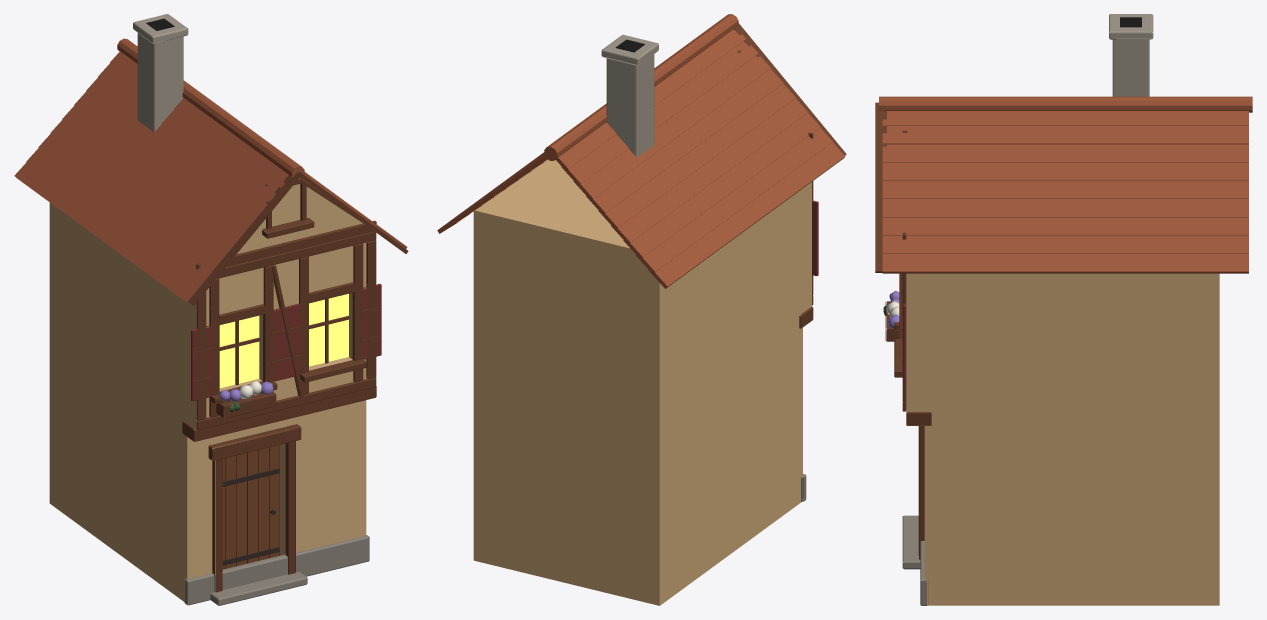
File: casa_3x4_ligero.glb
3 views of the same model, side by side, from view 1: azimuth 30°, elevation 25°; view 2: azimuth 150°, elevation 25°; view 3: azimuth 270°, elevation 25° (orthographic). The views are drawn at different scales.
Visible parts, largest first — view 1: casa_3x4_pb_dentro, casa_3x4_pa_dentro, casa_3x4_pb.002, casa_3x4_pb, casa_3x4_tejado_-1_0, casa_3x4_zocalo, casa_3x4_tejado_-1_1, casa_3x4_tejado_-1_2, casa_3x4_tejado_-1_3, casa_3x4_tejado_-1_4, casa_3x4_tejado_-1_5, casa_3x4_chimenea0 (+44 smaller); view 2: casa_3x4_pb_dentro, casa_3x4_pa_dentro, casa_3x4_tejado_-1_0, casa_3x4_tejado_-1_4, casa_3x4_tejado_-1_3, casa_3x4_tejado_-1_2, casa_3x4_tejado_-1_5, casa_3x4_tejado_-1_1, casa_3x4_tejado_-1_6, casa_3x4_chimenea0, casa_3x4_tejado_-1_7, casa_3x4_tejado_cumbrera (+5 smaller); view 3: casa_3x4_pb_dentro, casa_3x4_pa_dentro, casa_3x4_tejado_1_0, casa_3x4_tejado_1_5, casa_3x4_tejado_1_3, casa_3x4_tejado_1_4, casa_3x4_tejado_1_2, casa_3x4_tejado_1_1, casa_3x4_tejado_1_6, casa_3x4_tejado_1_7, casa_3x4_tejado_cumbrera, casa_3x4_tejado_1_8 (+7 smaller).
Boxes of the visible parts, <box> form: casa_3x4_pb_dentro: <box>49,322,176,596</box>; casa_3x4_pa_dentro: <box>49,202,187,422</box>; casa_3x4_pb.002: <box>280,400,366,555</box>; casa_3x4_pb: <box>177,416,220,601</box>; casa_3x4_tejado_-1_0: <box>14,162,202,303</box>; casa_3x4_zocalo: <box>184,535,369,605</box>; casa_3x4_tejado_-1_1: <box>26,148,214,287</box>; casa_3x4_tejado_-1_2: <box>38,134,226,272</box>; casa_3x4_tejado_-1_3: <box>50,120,236,258</box>; casa_3x4_tejado_-1_4: <box>62,105,246,244</box>; casa_3x4_tejado_-1_5: <box>74,91,257,230</box>; casa_3x4_chimenea0: <box>137,33,183,131</box>; casa_3x4_pb_dentro: <box>473,321,792,605</box>; casa_3x4_pa_dentro: <box>473,159,802,417</box>; casa_3x4_tejado_-1_0: <box>648,142,845,288</box>; casa_3x4_tejado_-1_4: <box>598,83,795,229</box>; casa_3x4_tejado_-1_3: <box>611,98,808,243</box>; casa_3x4_tejado_-1_2: <box>623,113,820,259</box>; casa_3x4_tejado_-1_5: <box>586,69,783,214</box>; casa_3x4_tejado_-1_1: <box>636,127,832,273</box>; casa_3x4_tejado_-1_6: <box>573,56,770,199</box>; casa_3x4_chimenea0: <box>606,54,654,157</box>; casa_3x4_tejado_-1_7: <box>561,41,758,185</box>; casa_3x4_tejado_cumbrera: <box>544,14,738,160</box>; casa_3x4_pb_dentro: <box>946,412,1219,605</box>; casa_3x4_pa_dentro: <box>924,273,1219,411</box>; casa_3x4_tejado_1_0: <box>882,253,1248,273</box>; casa_3x4_tejado_1_5: <box>882,162,1248,180</box>; casa_3x4_tejado_1_3: <box>882,199,1248,217</box>; casa_3x4_tejado_1_4: <box>882,180,1248,198</box>; casa_3x4_tejado_1_2: <box>882,217,1248,235</box>; casa_3x4_tejado_1_1: <box>882,235,1248,253</box>; casa_3x4_tejado_1_6: <box>882,144,1248,162</box>; casa_3x4_tejado_1_7: <box>882,126,1248,144</box>; casa_3x4_tejado_cumbrera: <box>879,96,1252,112</box>; casa_3x4_tejado_1_8: <box>882,111,1248,125</box>.
Bounding box in the file's own units: 3.72 × 7.88 × 5.12.
